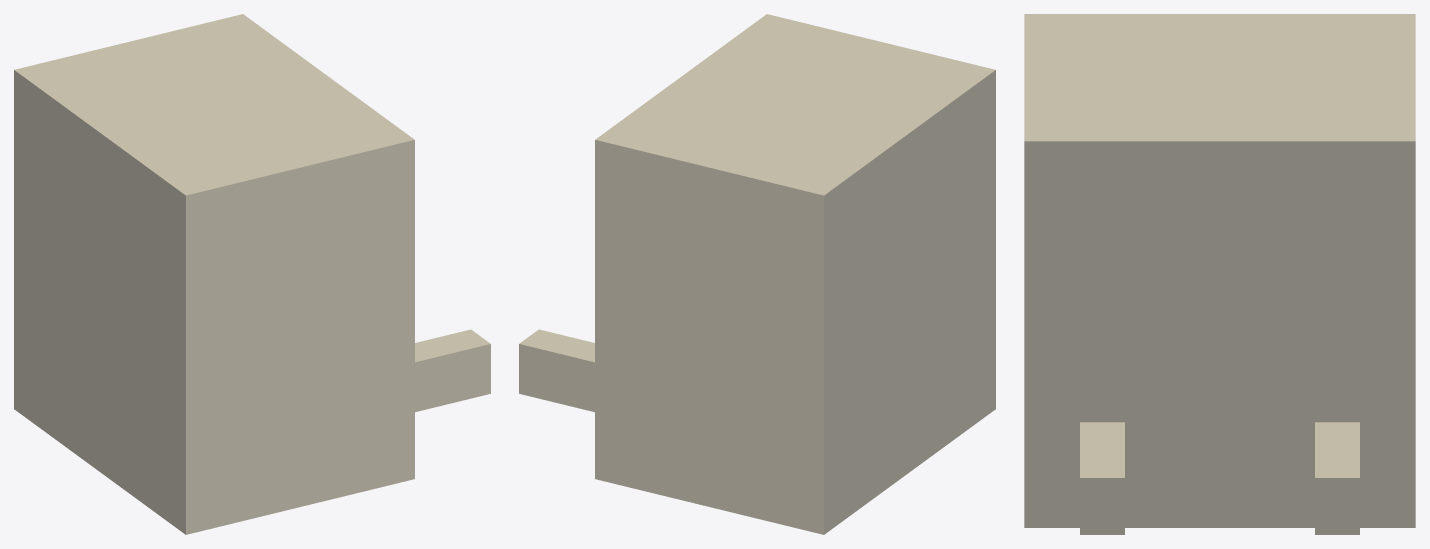
Rendered from BRAT_M5_R_HIGH_09.glb.
The picture shows the model from 3 angles, left to right: view 1: azimuth 30°, elevation 25°; view 2: azimuth 150°, elevation 25°; view 3: azimuth 270°, elevation 25°; orthographic projection. The views are drawn at different scales.
Parts seen in each view (by area): view 1: BRAT_M5_R_HIGH_09.001; view 2: BRAT_M5_R_HIGH_09.001; view 3: BRAT_M5_R_HIGH_09.001.
Part boxes in pixels (box(x1,y1,x2,y2)): BRAT_M5_R_HIGH_09.001: box(14, 14, 490, 534); BRAT_M5_R_HIGH_09.001: box(519, 14, 995, 534); BRAT_M5_R_HIGH_09.001: box(1024, 14, 1415, 534).
Bounding box in the file's own units: 0.3453 × 0.34 × 0.312.
